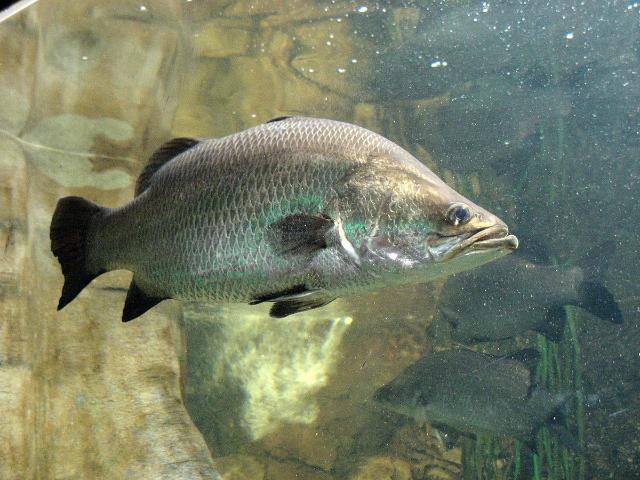Mulut: (413, 202, 542, 287)
Sirip Anal: (108, 273, 172, 341)
Sirip Dada: (255, 202, 357, 276)
Sirip Ekor: (43, 188, 115, 322)
Sirip Perut: (244, 278, 346, 339)
Sirip Punggung: (130, 108, 274, 212)
